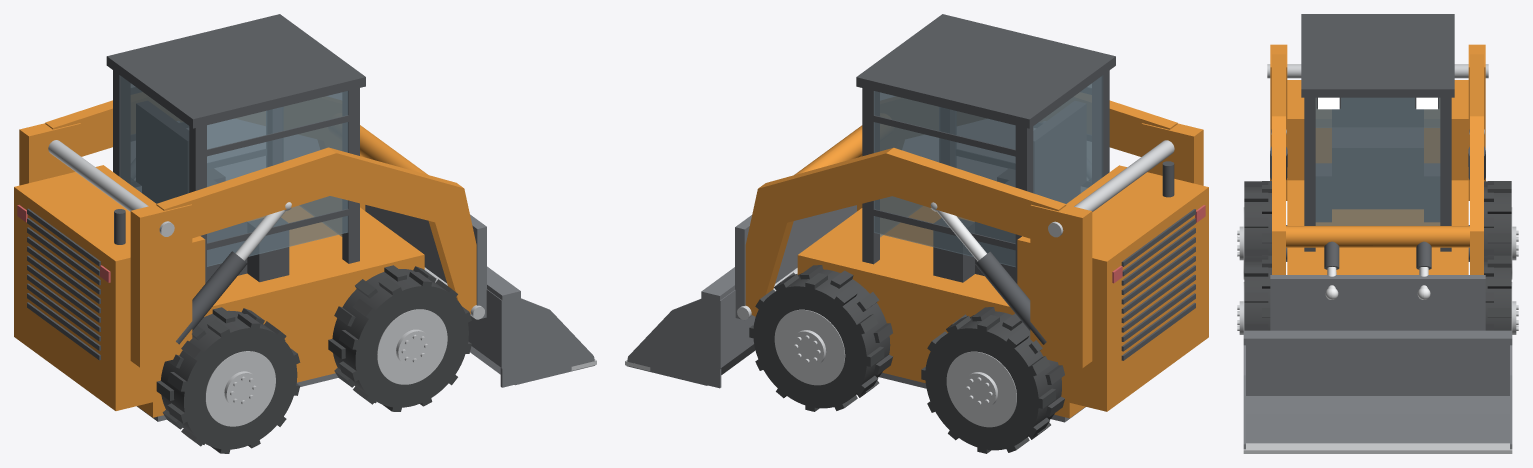
Rendered from Skid_Steer_Loader.glb.
The picture shows the model from 3 angles, left to right: view 1: azimuth 30°, elevation 25°; view 2: azimuth 150°, elevation 25°; view 3: azimuth 270°, elevation 25°; orthographic projection. The views are drawn at different scales.
Visible parts, largest first — view 1: body, rear_grille, tyre, cab_glass, axle_hub, rim, lift_ram_rod; view 2: body, rear_grille, tyre, cab_glass, axle_hub, rim, lift_ram_rod; view 3: axle_hub, rear_grille, body, cab_glass, tyre, rim, work_lights, lift_ram_rod.
Boxes of the visible parts, x1=… form: body: x1=14, y1=100, x2=476, y2=417; rear_grille: x1=27, y1=14, x2=365, y2=360; tyre: x1=156, y1=265, x2=471, y2=453; cab_glass: x1=119, y1=75, x2=348, y2=266; axle_hub: x1=137, y1=205, x2=595, y2=421; rim: x1=48, y1=140, x2=596, y2=426; lift_ram_rod: x1=235, y1=202, x2=291, y2=260; body: x1=745, y1=100, x2=1208, y2=418; rear_grille: x1=856, y1=14, x2=1195, y2=360; tyre: x1=749, y1=265, x2=1064, y2=453; cab_glass: x1=874, y1=75, x2=1103, y2=267; axle_hub: x1=627, y1=205, x2=1085, y2=422; rim: x1=625, y1=140, x2=1174, y2=427; lift_ram_rod: x1=930, y1=202, x2=986, y2=261; axle_hub: x1=1243, y1=225, x2=1512, y2=449; rear_grille: x1=1270, y1=14, x2=1485, y2=269; body: x1=1270, y1=44, x2=1485, y2=274; cab_glass: x1=1315, y1=97, x2=1440, y2=225; tyre: x1=1244, y1=181, x2=1511, y2=330; rim: x1=1237, y1=64, x2=1518, y2=453; work_lights: x1=1318, y1=97, x2=1437, y2=109; lift_ram_rod: x1=1271, y1=129, x2=1484, y2=299.
Size of the model in its own units: 61.44 by 40.12 by 36.6.
